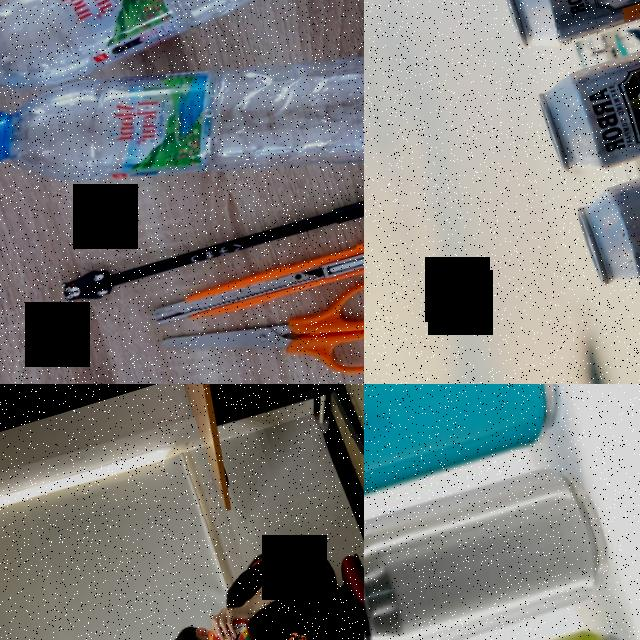bottle: (0, 0, 364, 275), (0, 0, 364, 117)
can: (364, 454, 622, 640), (364, 384, 572, 513), (531, 7, 640, 179), (569, 121, 640, 292)
